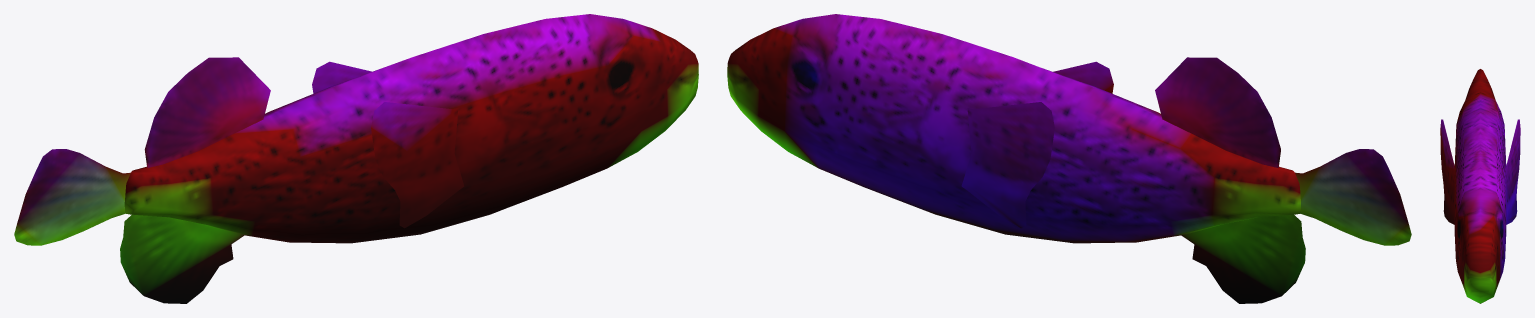
Rendered from longspine_porcupinefish.glb.
3 views of the same model, side by side, from view 1: azimuth 30°, elevation 25°; view 2: azimuth 150°, elevation 25°; view 3: azimuth 270°, elevation 25° (orthographic). The views are drawn at different scales.
Visible parts, largest first — view 1: LongspinePorcupinefish; view 2: LongspinePorcupinefish; view 3: LongspinePorcupinefish.
Part boxes in pixels (left/top/right/bottom): LongspinePorcupinefish: left=14, top=14, right=698, bottom=303; LongspinePorcupinefish: left=727, top=14, right=1411, bottom=303; LongspinePorcupinefish: left=1440, top=69, right=1520, bottom=303.
Bounding box in the file's own units: 1 × 0.3371 × 0.1497.
Materials: 1 (1 with a texture image).
